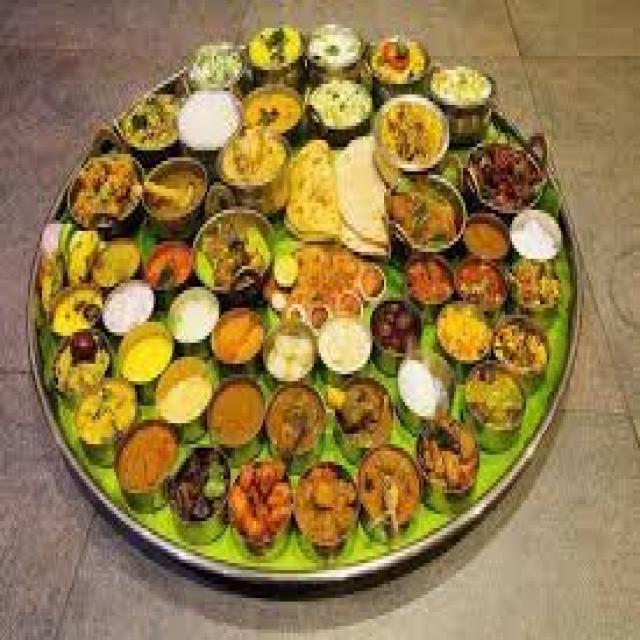curd: (392, 353, 448, 421)
dal: (204, 379, 267, 446), (121, 327, 172, 380)
papad: (331, 146, 392, 250), (286, 148, 344, 237)
raita: (391, 353, 446, 418)
veg-fry: (354, 442, 421, 536), (289, 463, 361, 550), (227, 453, 293, 545), (262, 382, 330, 457)
